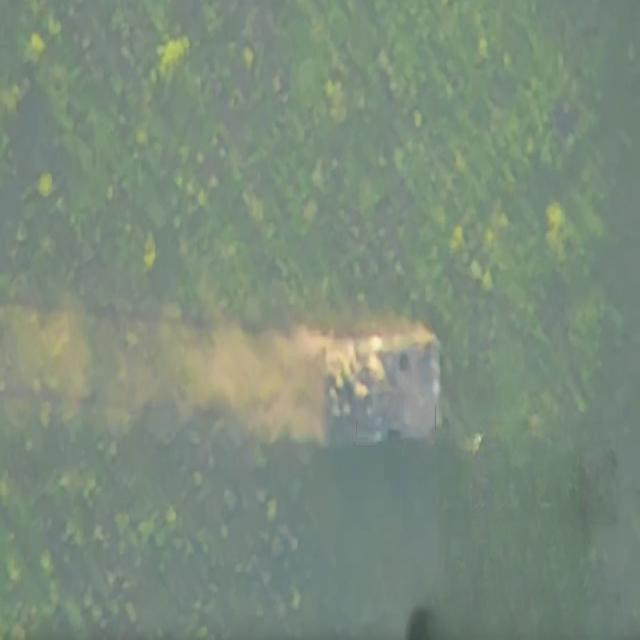AIFV: (320, 326, 444, 450)
